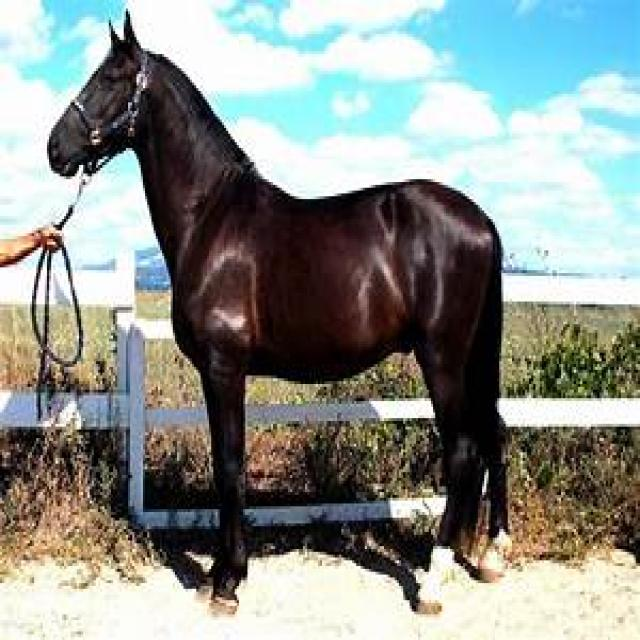animal: (45, 6, 512, 617)
